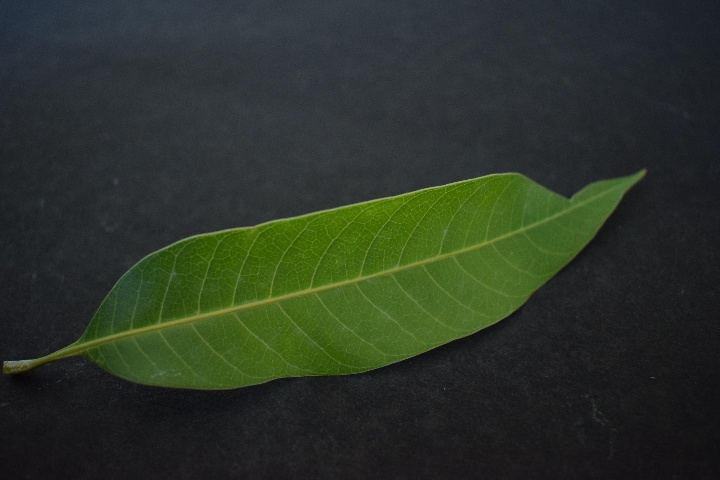healthy: (82, 166, 652, 381)
